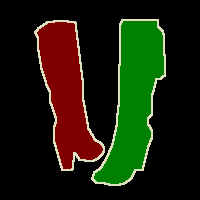shoe: (92, 20, 165, 185), (35, 20, 104, 170)
